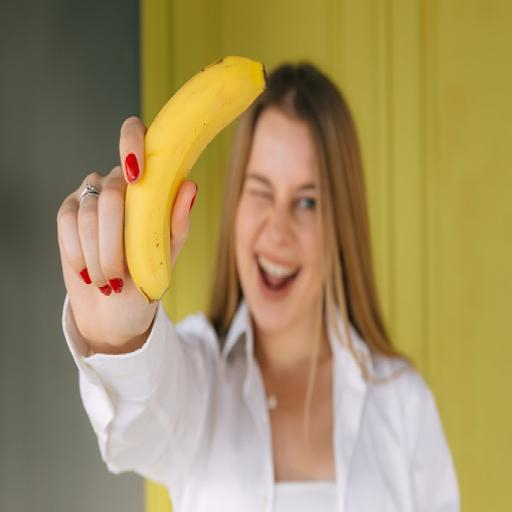banana: (124, 56, 266, 302)
